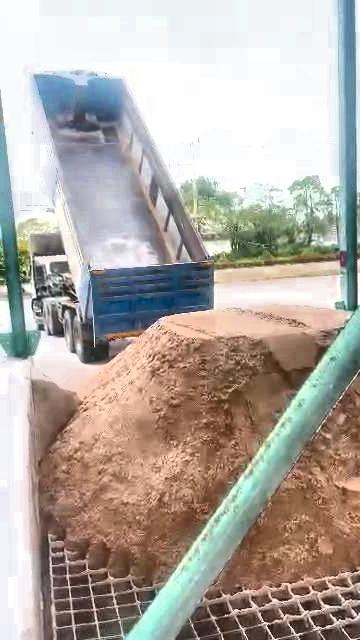sand: (41, 306, 346, 580), (221, 379, 360, 587), (29, 370, 78, 465)
